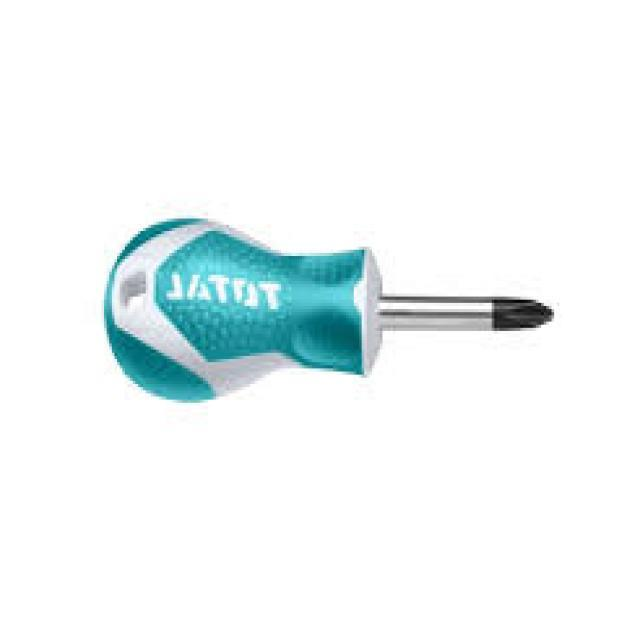screwdriver: (100, 214, 566, 410)
